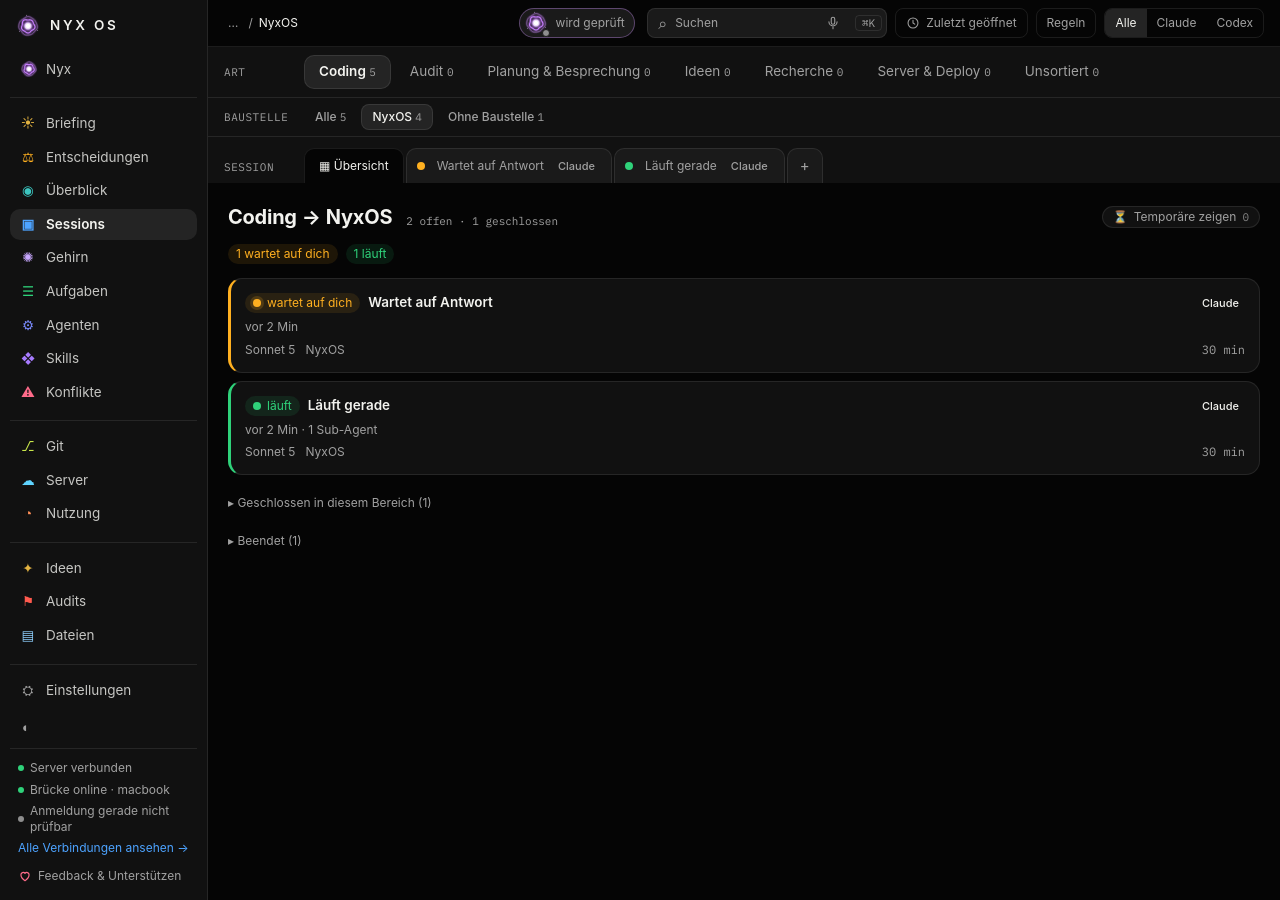
Test case: Sessions-Tab: Übersicht › klappt Geschlossen und Beendet ein
Expected: the list named "Sessions in" is shown, 228,278 -> 1260,475
Expected: the text "Alt geschlossen" is not shown
Click the button "▸ Geschlossen in diesem Bereich (1)".
click(330, 503)  # box 228,495 -> 432,512
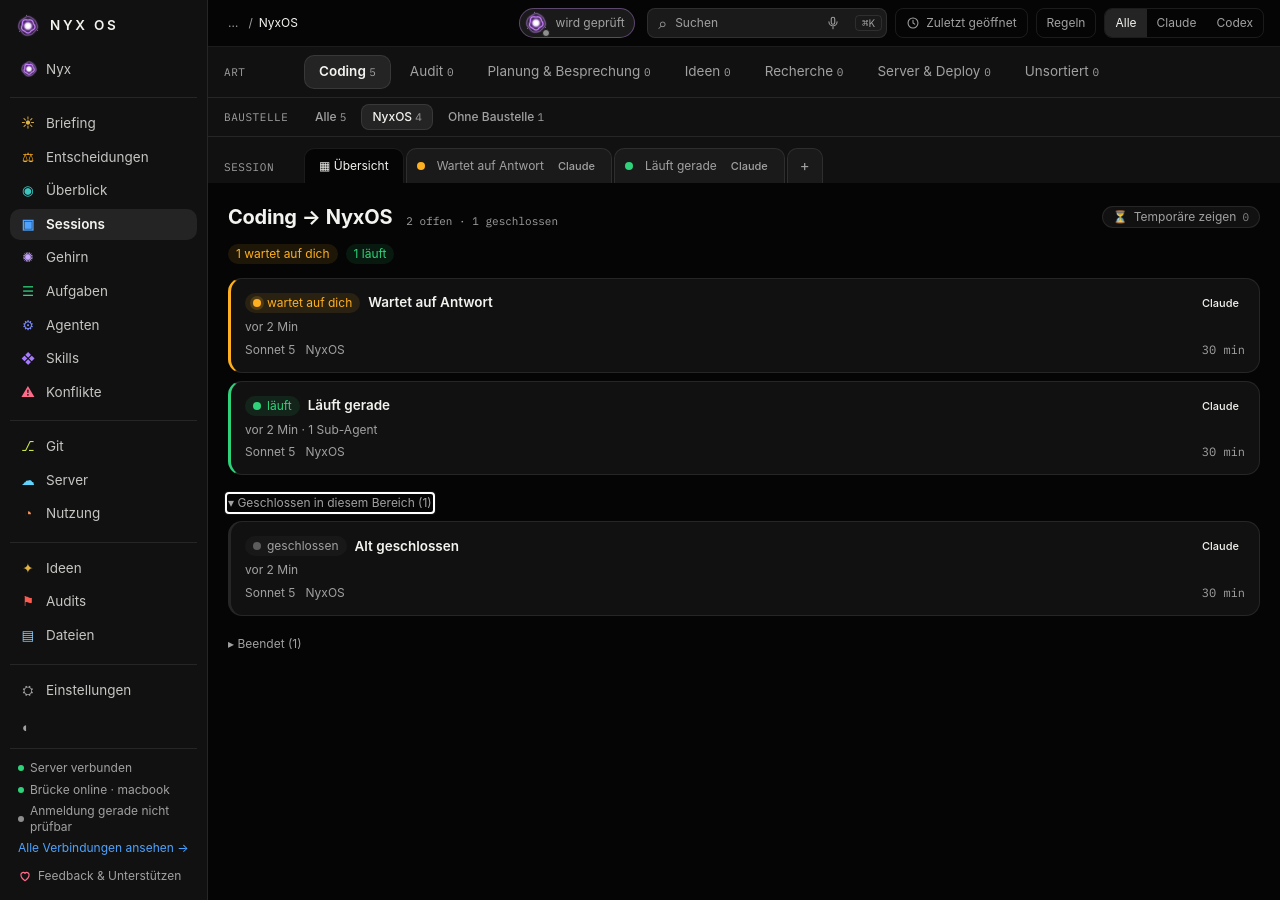
Result: the text "Alt geschlossen" is shown at 354,538 -> 459,554
Click the button "▸ Beendet (1)".
click(265, 644)  # box 228,636 -> 302,652
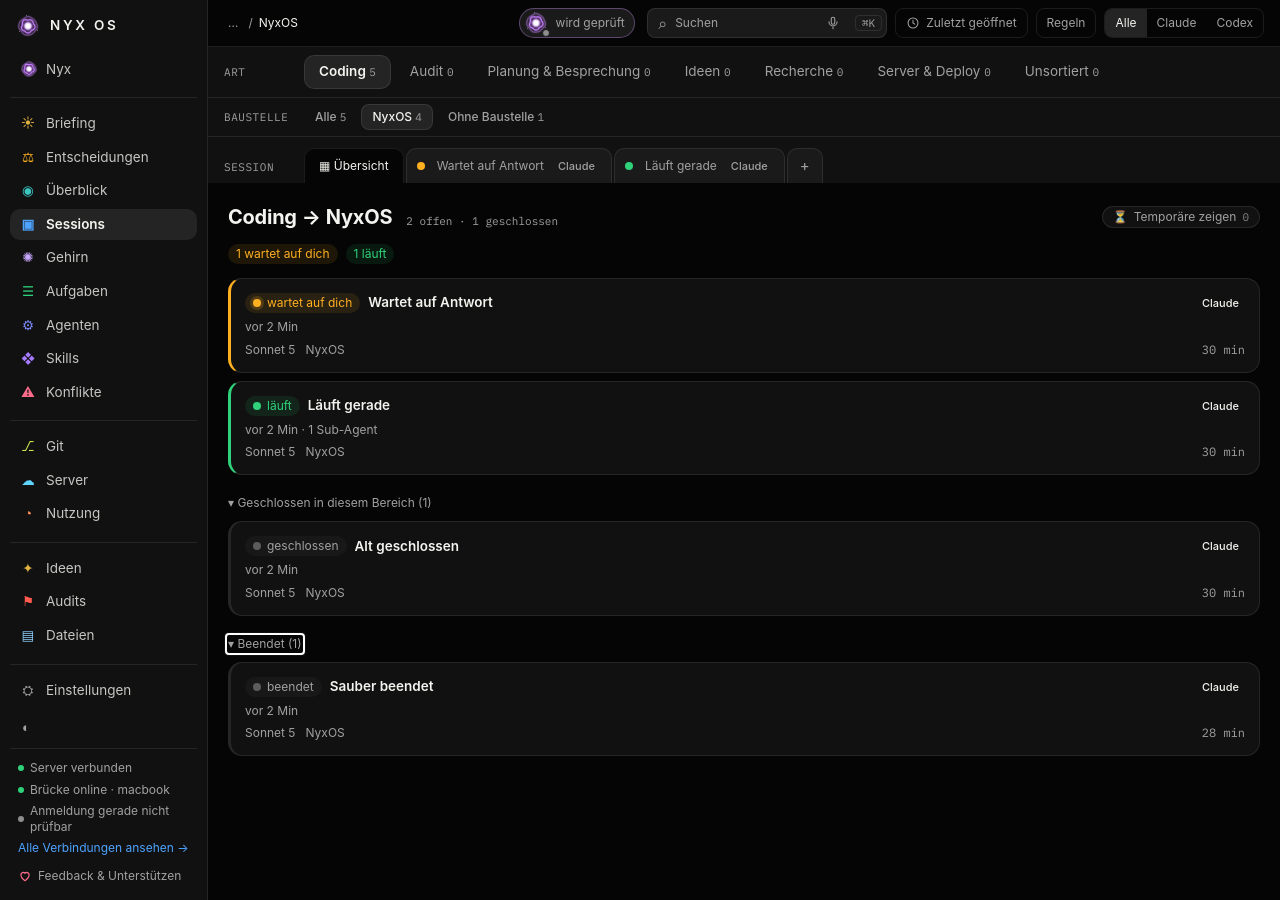
Result: the text "Sauber beendet" is shown at 330,678 -> 434,694
